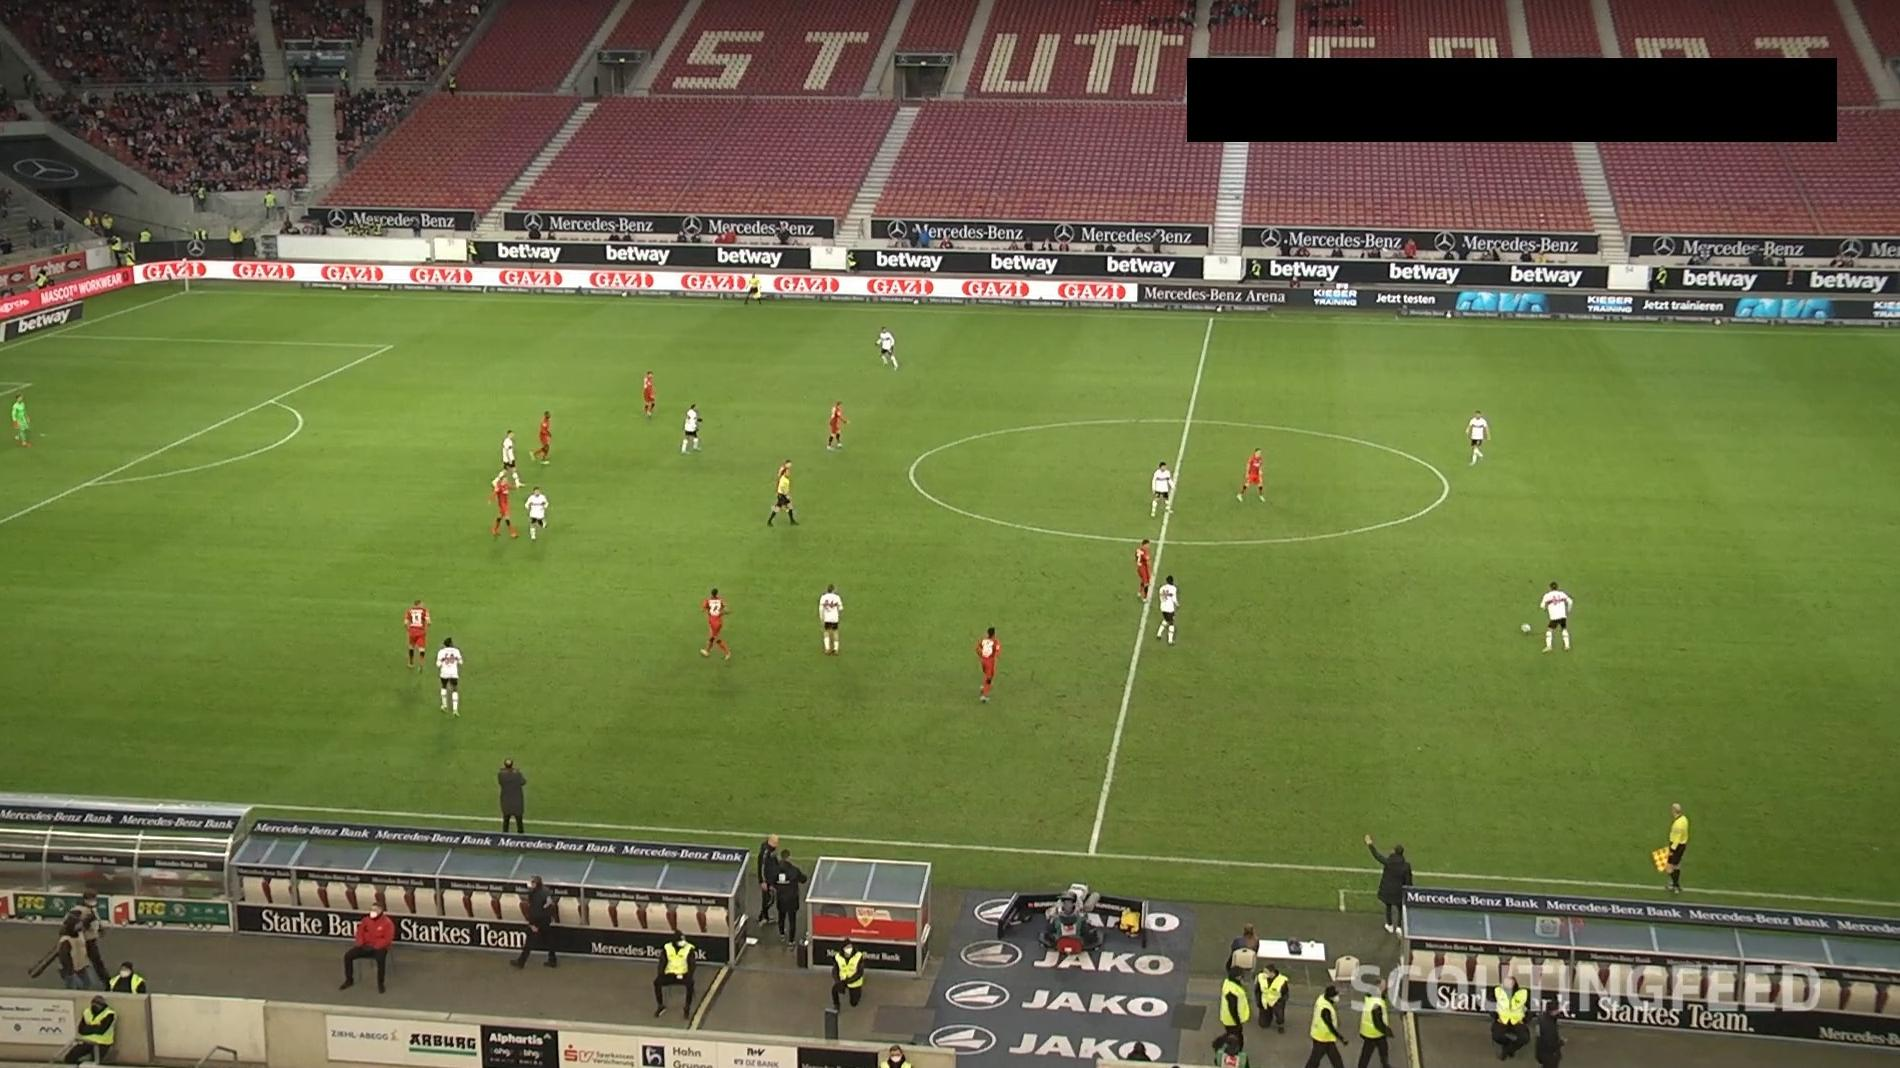ball: (1519, 621, 1532, 636)
